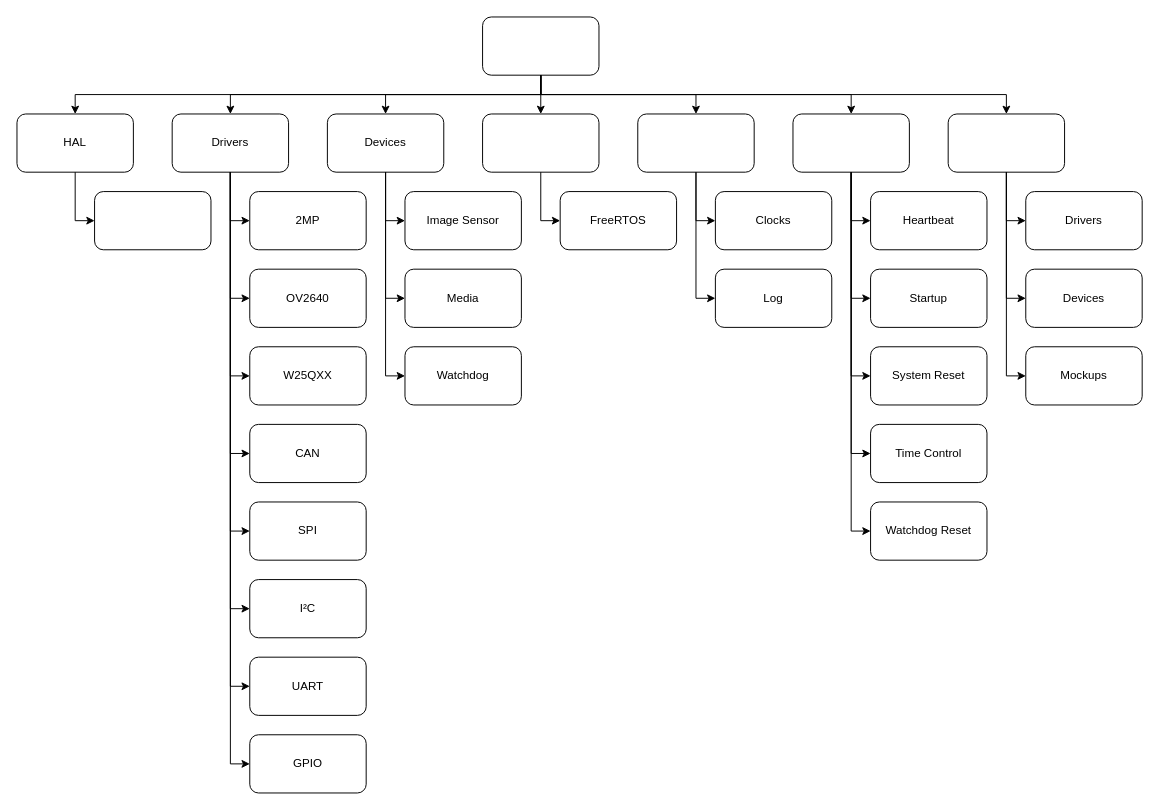
Image size: 1159x810. Some labels were removed from this diagram. Each missing label, with the box of its shape:
LibOpenCM3: (94, 191, 211, 250)
RTOS: (482, 113, 599, 172)
SLCam Firmware: (482, 16, 599, 75)
System: (637, 113, 754, 172)
Tasks: (792, 113, 909, 172)
Tests: (947, 113, 1065, 172)
